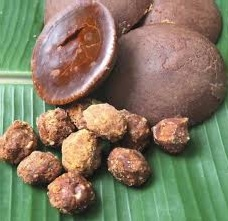hakuru: (106, 25, 225, 130), (29, 1, 117, 106)
